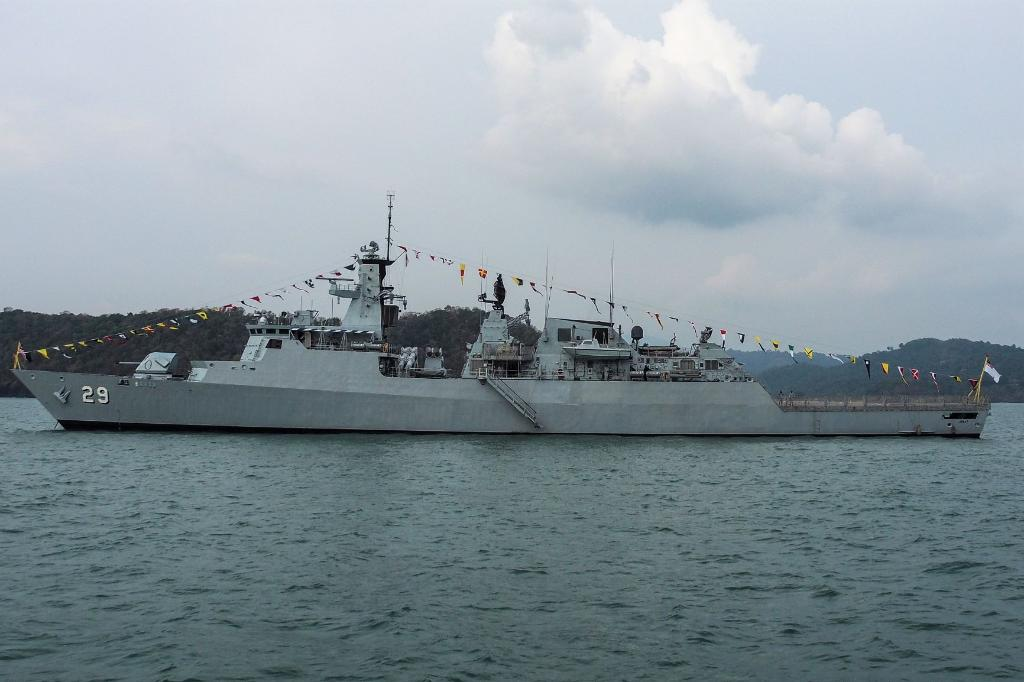Warship: (1, 184, 1001, 446)
